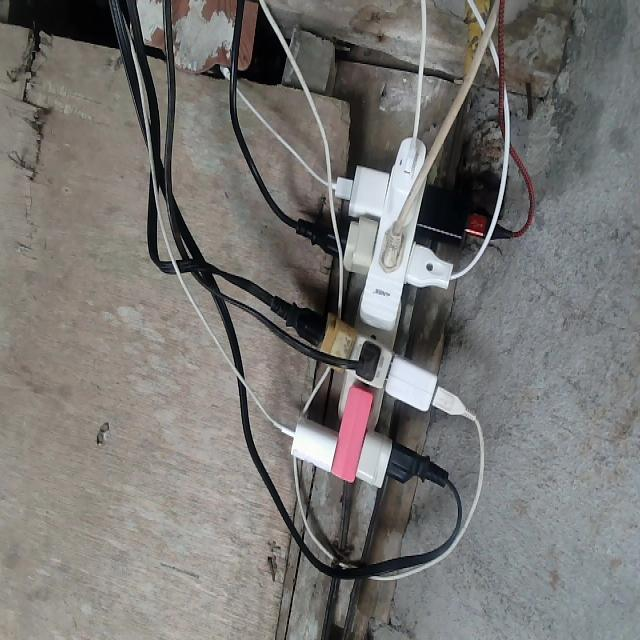-: (275, 131, 484, 488)
